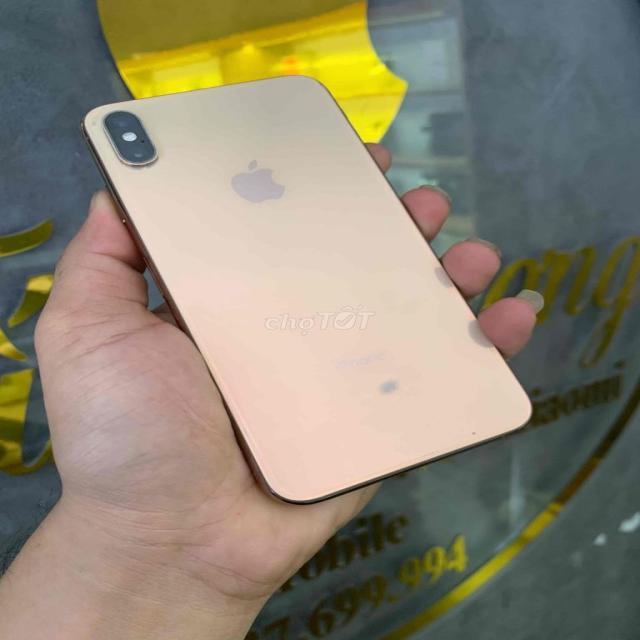scratch: (464, 418, 486, 445)
